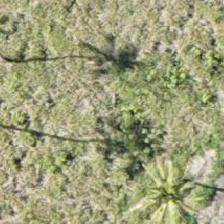coconut_tree: (135, 145, 223, 223)
